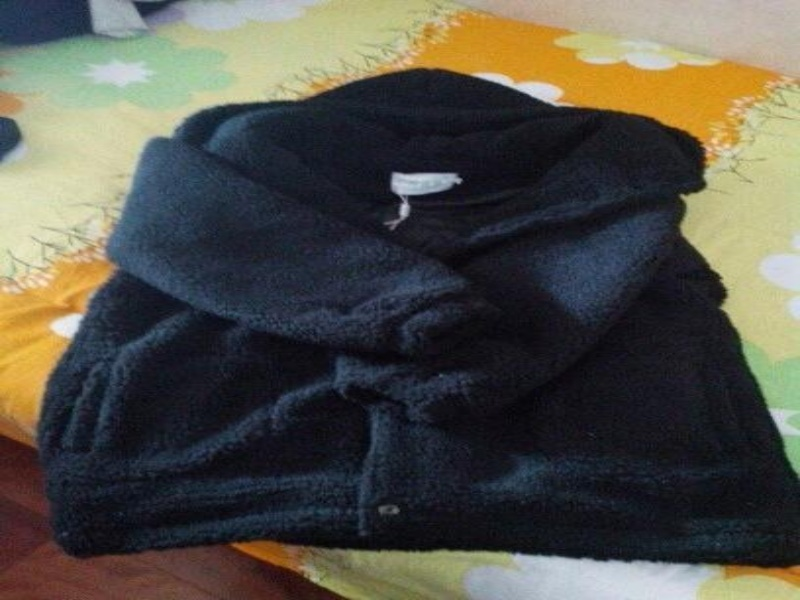long_sleeved_shirt: (31, 68, 796, 571)
